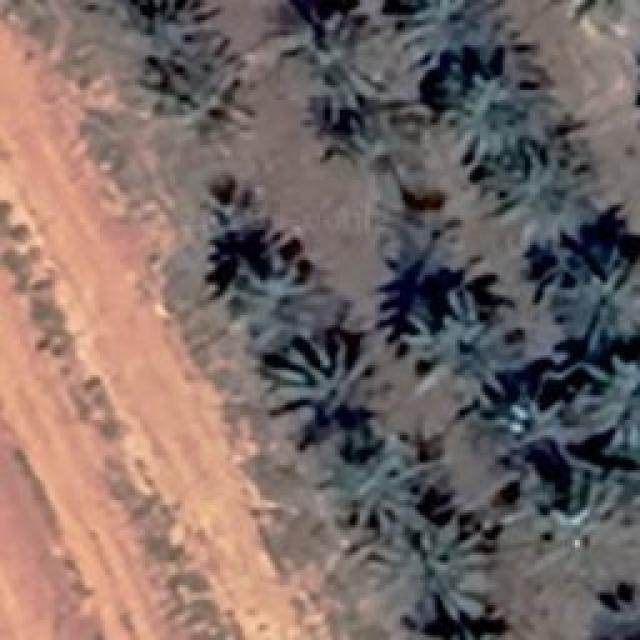PalmTree: (98, 16, 598, 50), (360, 512, 492, 622), (440, 70, 560, 168), (398, 300, 512, 402), (264, 330, 388, 412), (135, 55, 255, 133), (552, 242, 638, 348), (221, 241, 324, 326), (499, 158, 609, 236), (528, 452, 612, 546), (374, 200, 456, 290), (330, 432, 418, 512), (332, 94, 420, 168), (398, 0, 503, 62), (578, 350, 638, 455), (311, 15, 394, 83), (476, 385, 559, 443), (199, 176, 271, 238), (590, 580, 638, 635), (418, 625, 514, 640), (418, 630, 512, 640)
